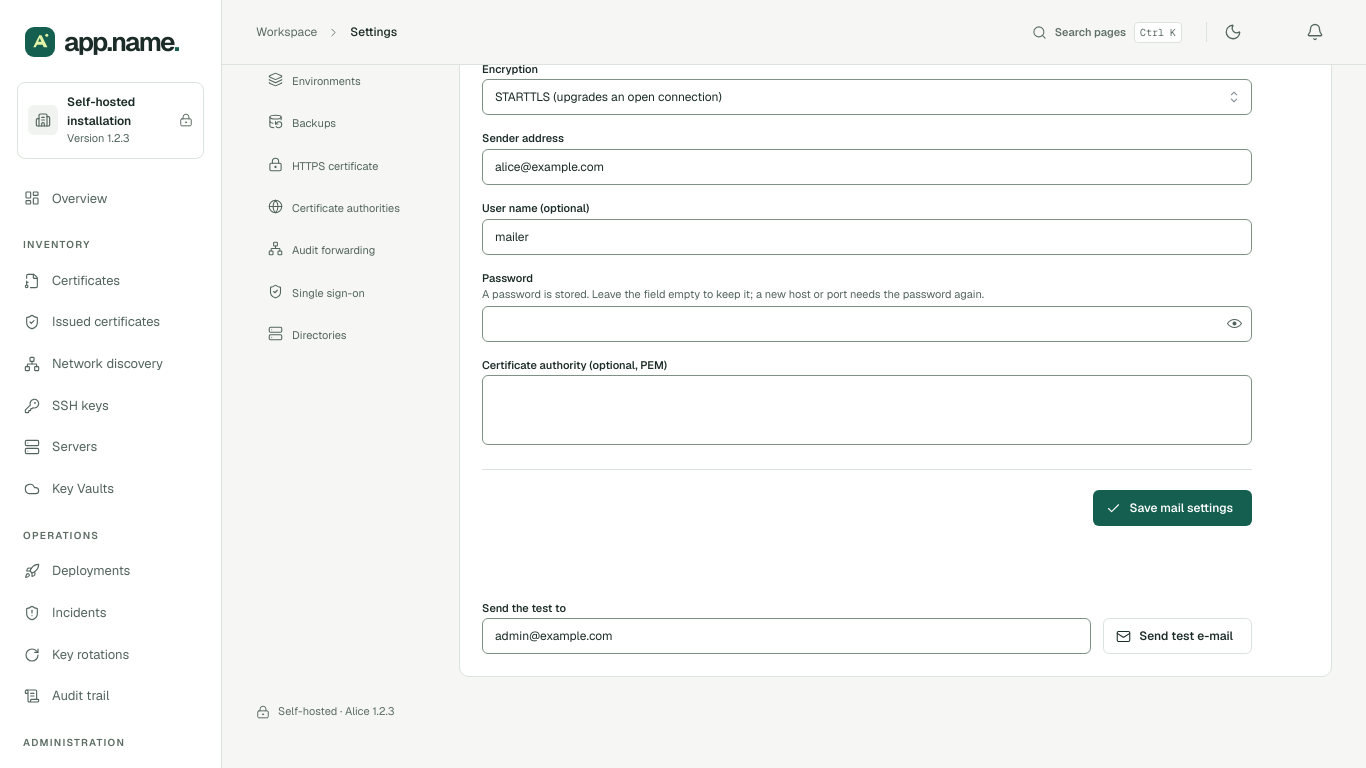
Test case: SettingsPage, mail › reads the form again after a 412 and says so
(page scrolled)
Expected: the field labelled "Mail server" holds "old.example.com", x1=482 y1=10 x2=859 y2=46
Click the button "Save mail settings" at (1173, 508), box x1=1093 y1=490 x2=1252 y2=526
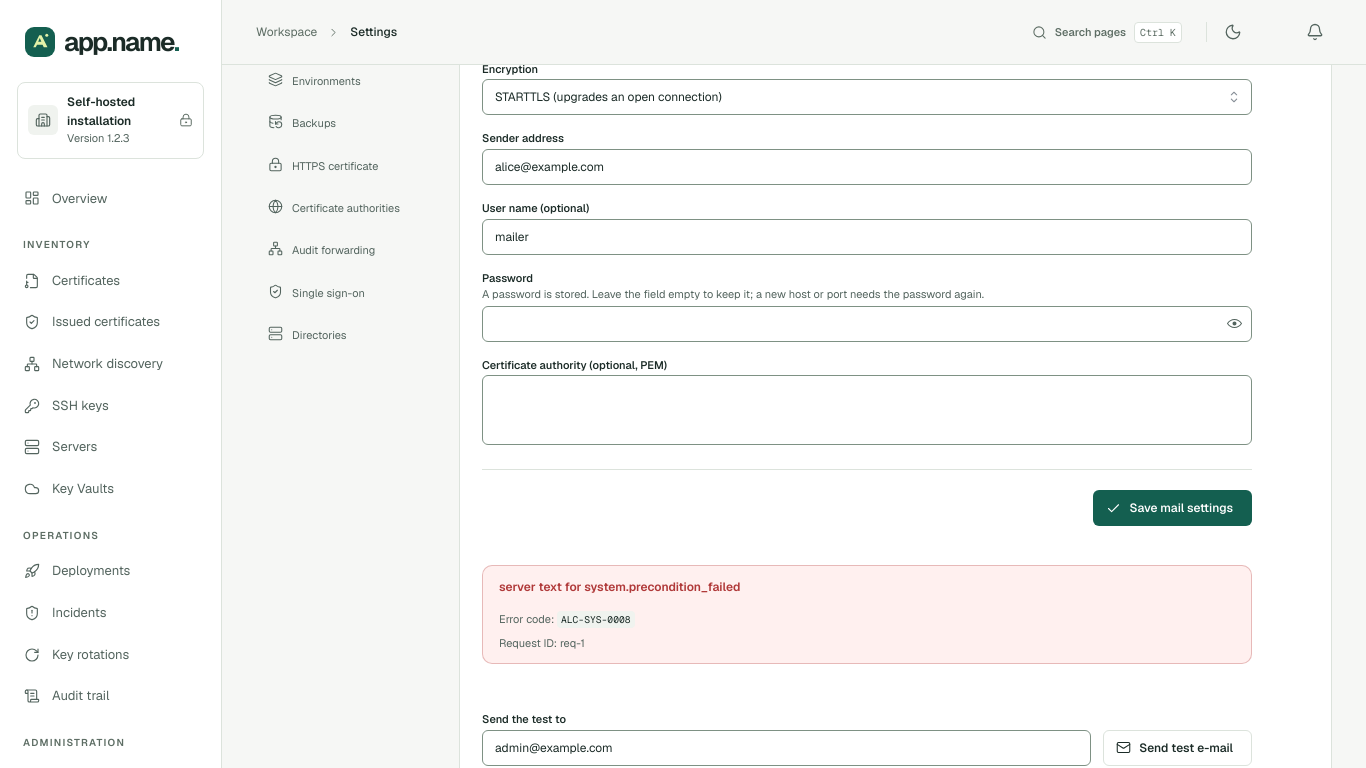
Expected: the field labelled "Mail server" holds "new.example.com", x1=482 y1=10 x2=859 y2=46
Now the 2nd message is shown, box x1=482 y1=565 x2=1252 y2=664
